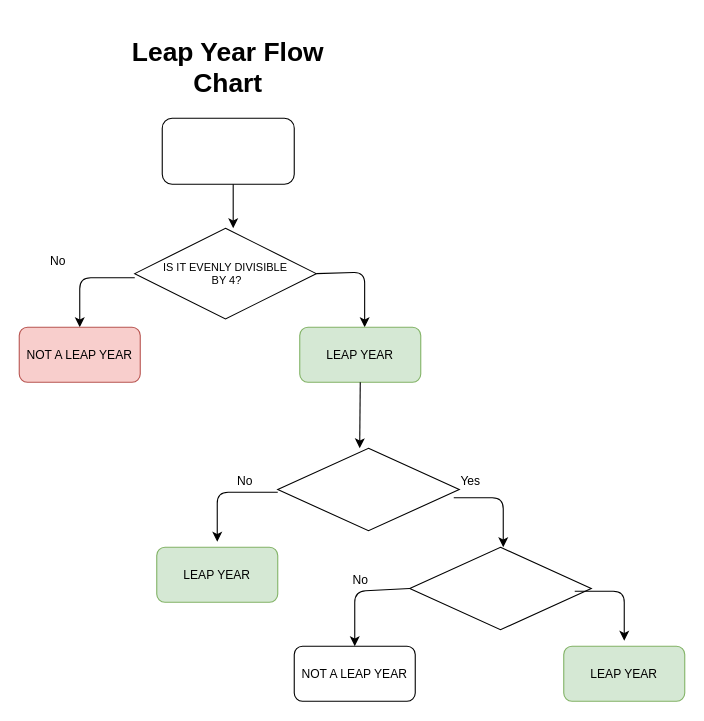
Some shapes in this 704 by 721 pixel diagram are drawn without their labels. The shapes that lost their labels are listed below. From the top down, each one's centre as x and y in pixels, then its label:
At (x=227, y=150): "START".
At (x=368, y=489): "IS IT EVENLY DIVISIBLE BY 100?".
At (x=500, y=588): "IS IT EVENLY DIVISIBLE BY 400?".
